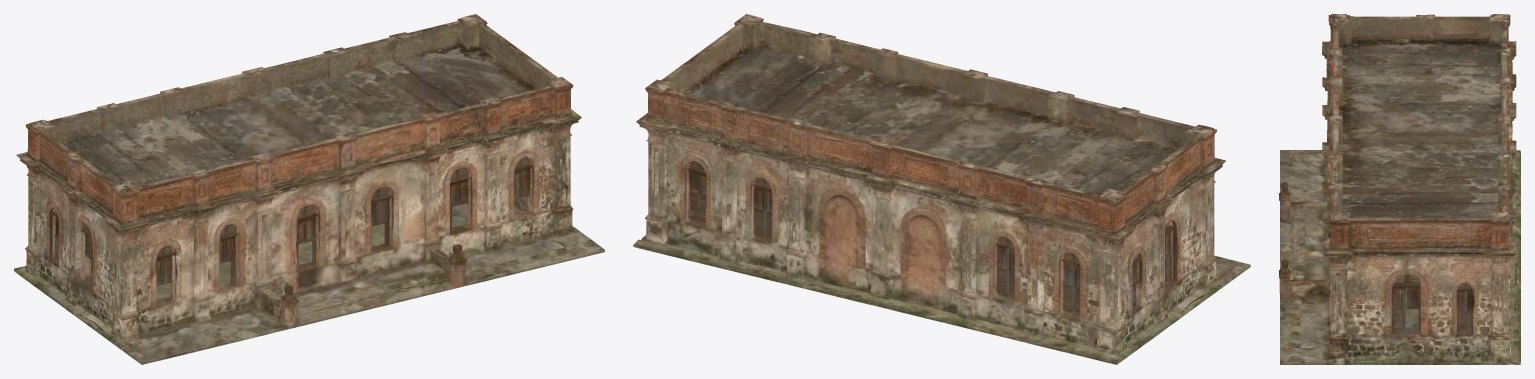
Rendered from 01M3V1DR3QRRHX25THD630R5G1.glb.
3 renders of one model, left to right at view 1: azimuth 30°, elevation 25°; view 2: azimuth 150°, elevation 25°; view 3: azimuth 270°, elevation 25°, orthographic. The views are drawn at different scales.
Bounding box in the file's own units: 1.9 × 0.5928 × 0.9143.
1 material, 1 textured.
